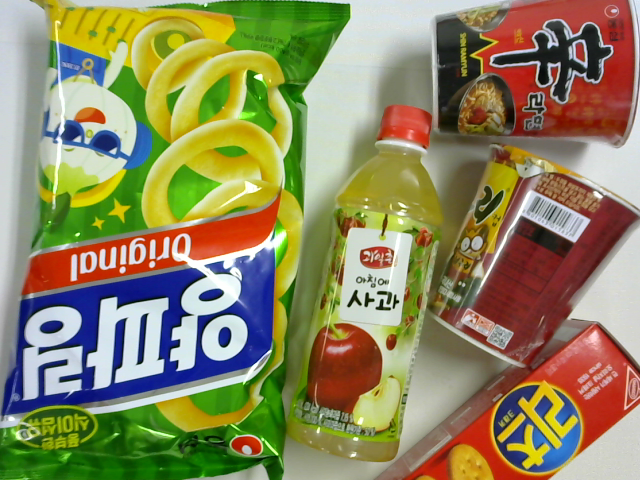Morning_Apple_500ml: (281, 105, 443, 462)
Oninon_Ring: (1, 1, 351, 476)
Raccoon: (429, 141, 640, 368)
Ritz_Cracker: (367, 318, 640, 479)
Sinramen_small: (429, 1, 638, 149)
